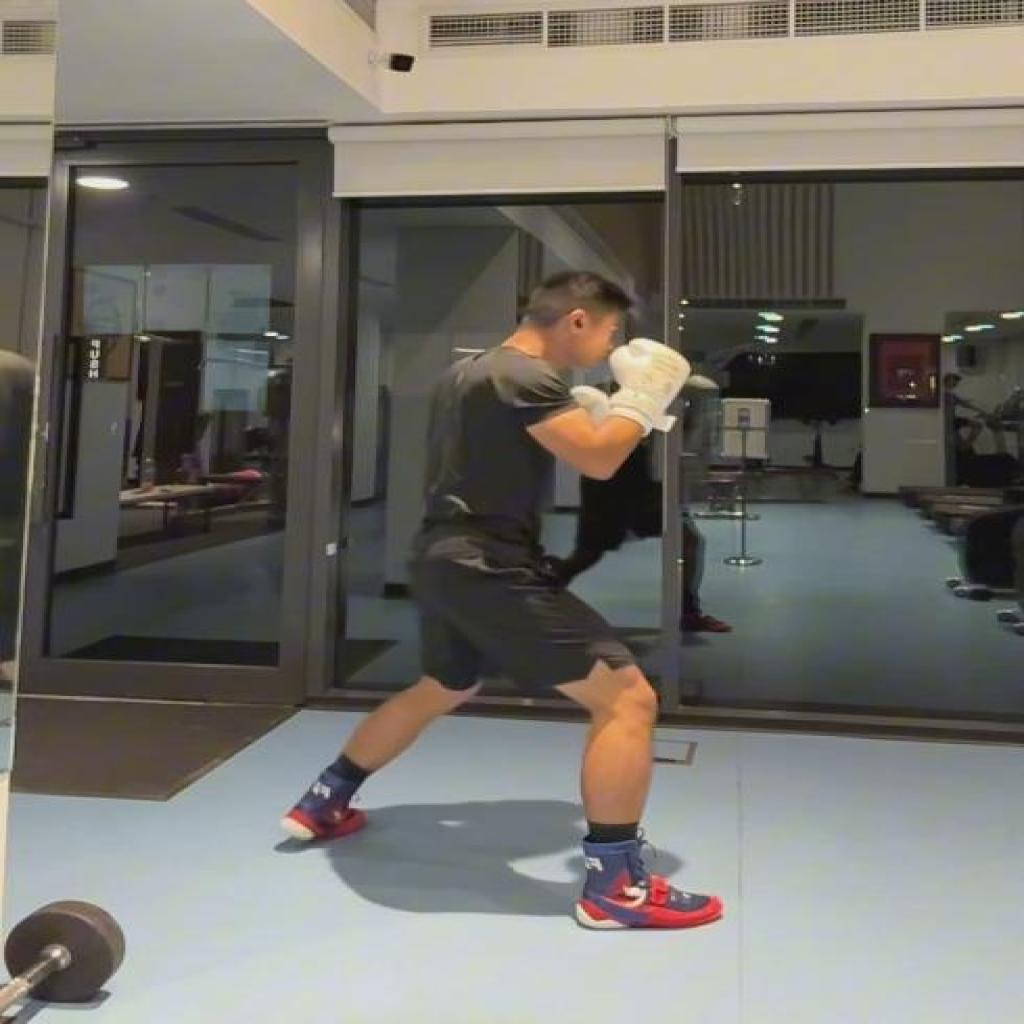no punch: (278, 267, 729, 936)
